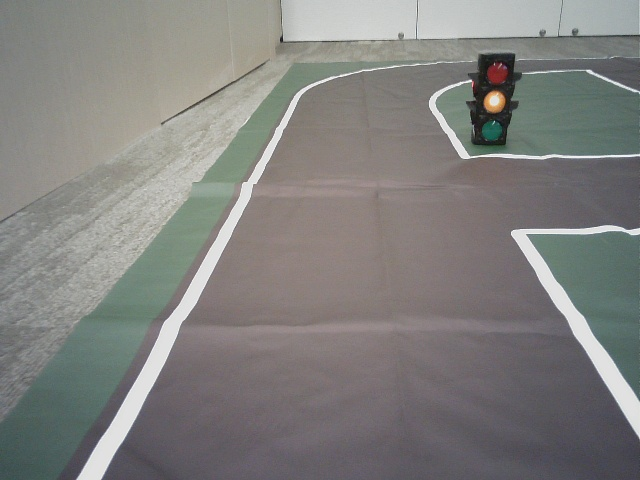yellow: (478, 54, 508, 139)
